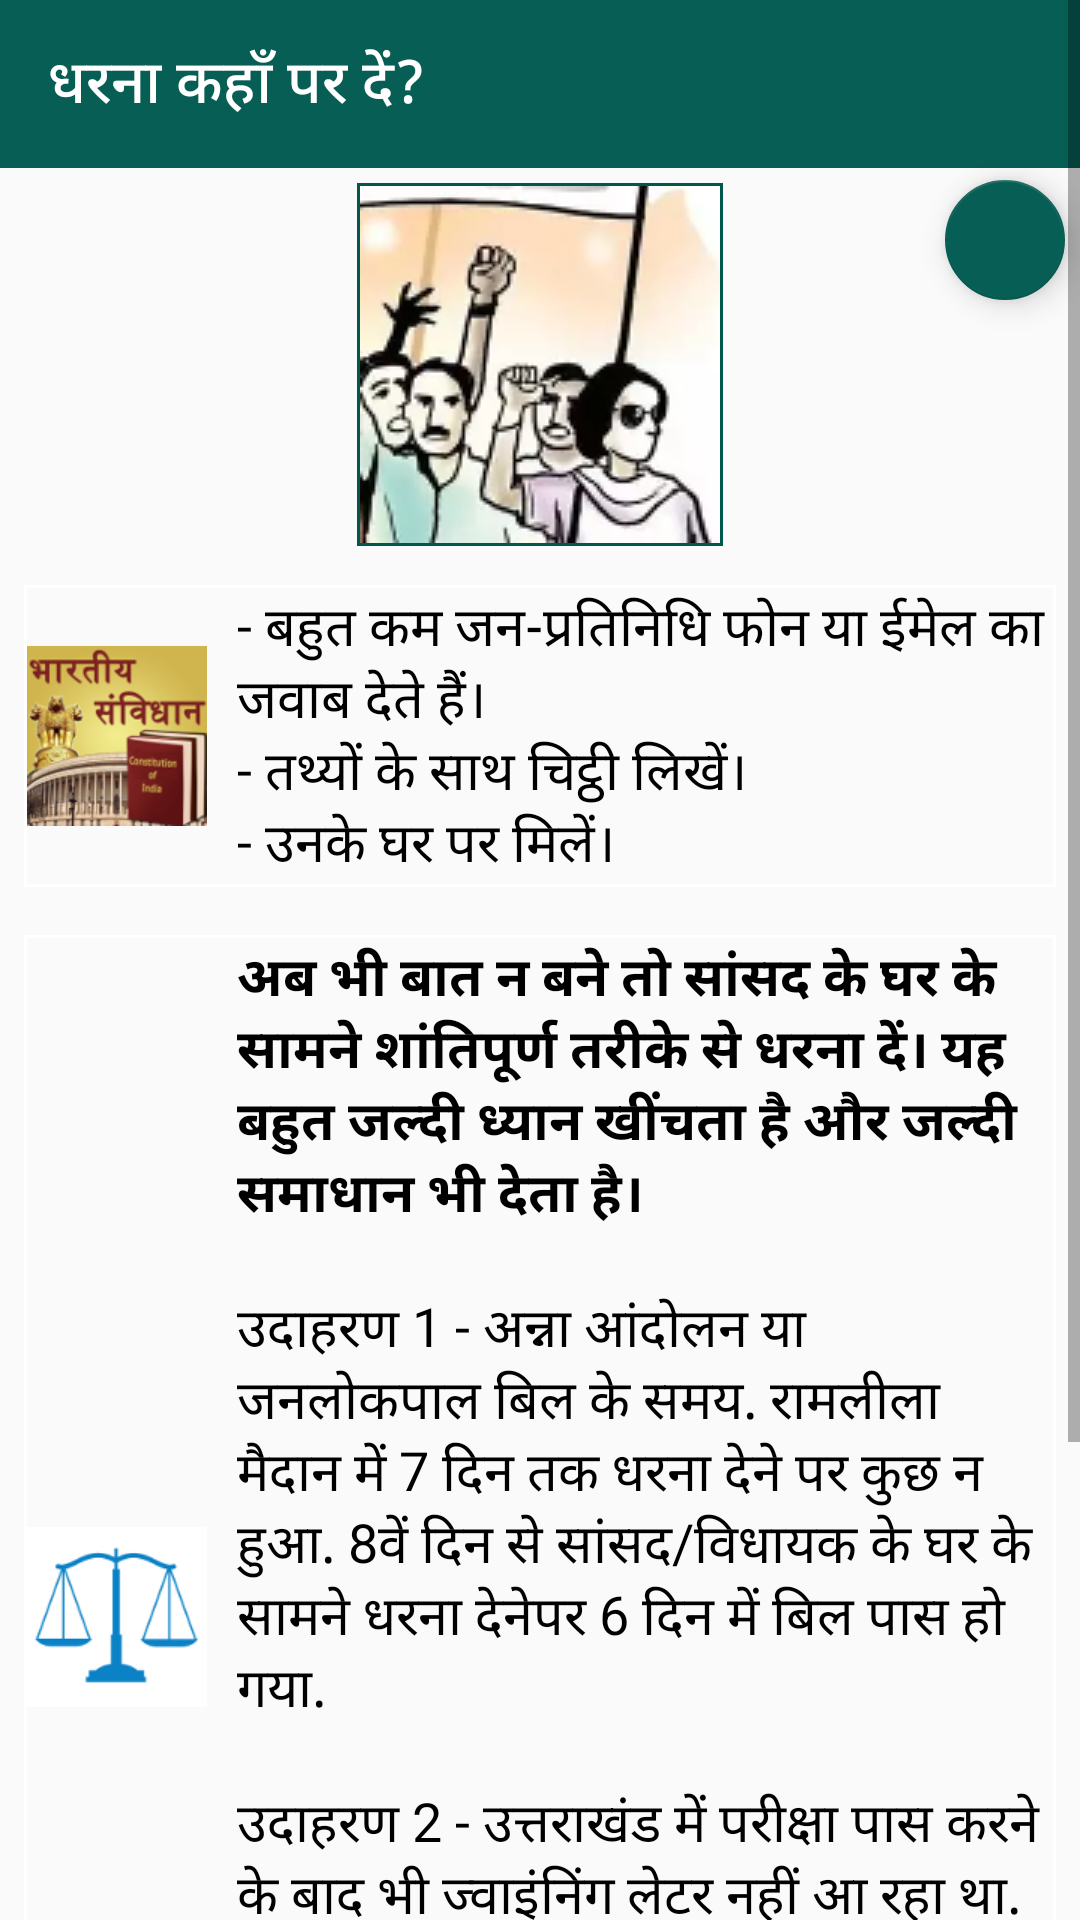

Icons on this 1080*1920 Android screen, each with its box as (x1, y1, x2, y2):
compay law: (35, 1547, 198, 1683)
